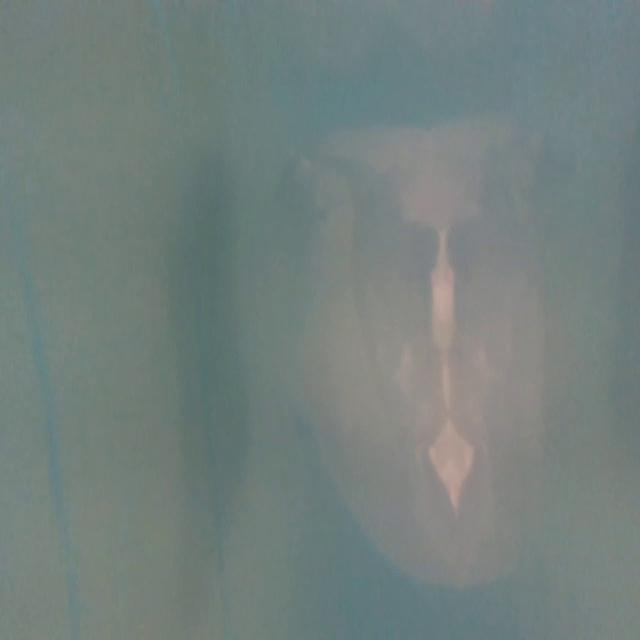plastic bags: (263, 108, 576, 602)
